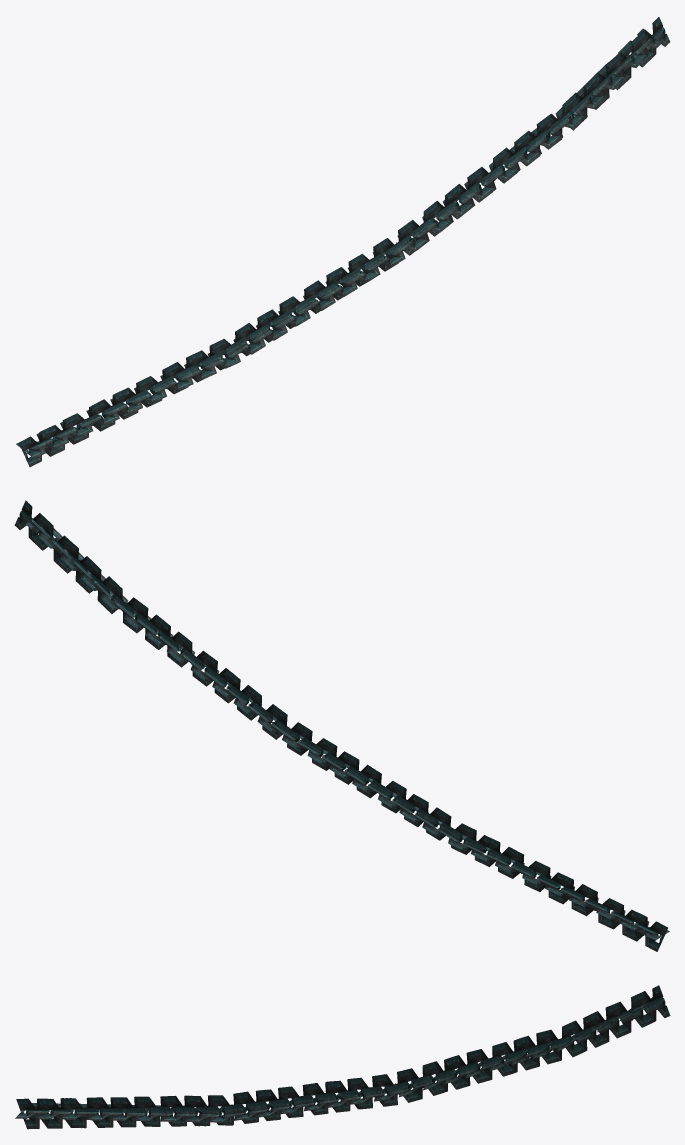
Rendered from xuanrenchangjing_tielian_01.FBX.
3 renders of one model, top to bottom at view 1: azimuth 30°, elevation 25°; view 2: azimuth 150°, elevation 25°; view 3: azimuth 330°, elevation 25°, orthographic.
Parts seen in each view (by area): view 1: Object014; view 2: Object014; view 3: Object014.
Boxes of the visible parts, x1=… form: Object014: x1=16, y1=17, x2=670, y2=466; Object014: x1=14, y1=500, x2=669, y2=951; Object014: x1=15, y1=985, x2=670, y2=1129.
Size of the model in its own units: 4.67 by 2.06 by 0.2418.
